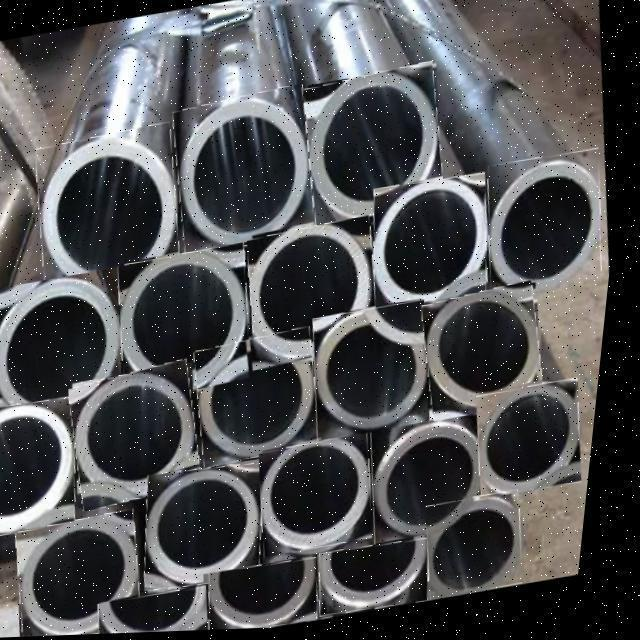pipe: (39, 123, 187, 301), (176, 86, 320, 260), (306, 64, 450, 237), (124, 244, 258, 401), (252, 218, 386, 374), (0, 269, 131, 426), (77, 360, 212, 512), (201, 329, 329, 469), (429, 284, 553, 427), (493, 152, 608, 304), (379, 177, 494, 322), (320, 303, 438, 442), (27, 510, 155, 637), (381, 418, 496, 548), (158, 466, 273, 592), (269, 436, 384, 559), (485, 382, 593, 503), (0, 398, 85, 537), (438, 494, 536, 603), (332, 542, 441, 619), (222, 561, 330, 632), (112, 589, 221, 635)
